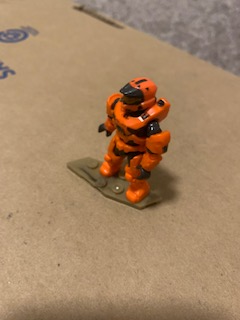soldier: (97, 75, 173, 205)
